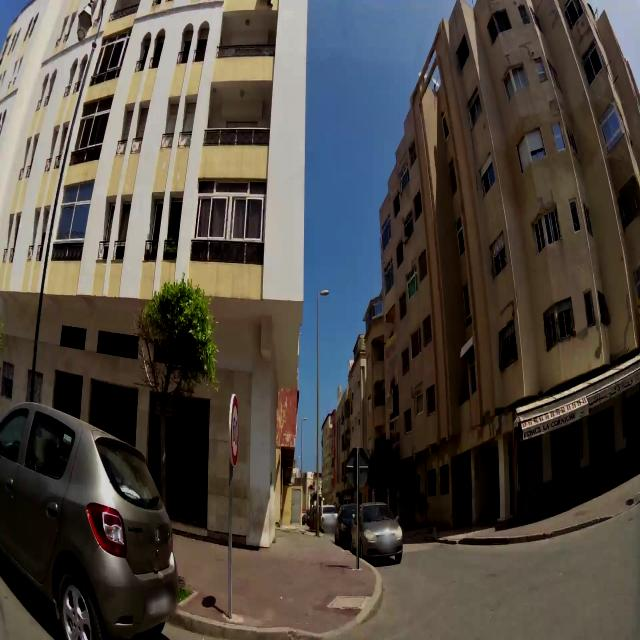car: (0, 401, 178, 640), (350, 501, 404, 564), (335, 503, 357, 547), (317, 503, 338, 533)
